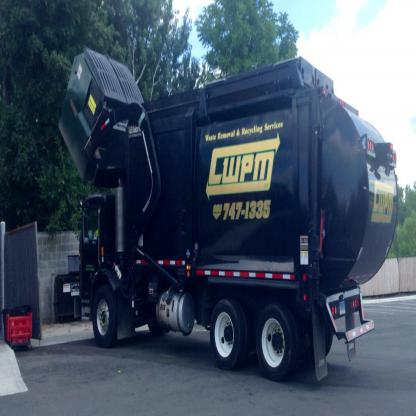Truck: (58, 44, 398, 383)
